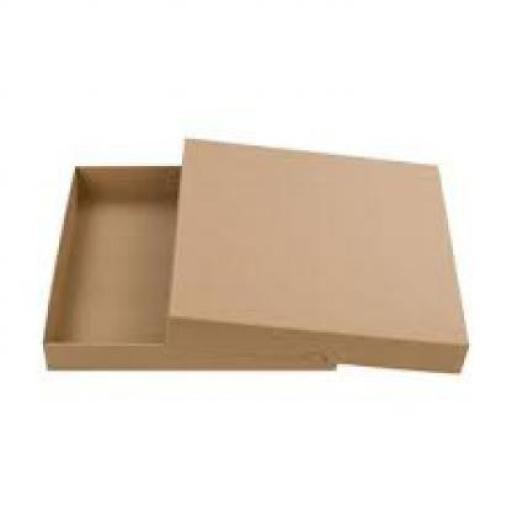cardboard: (161, 134, 464, 371), (40, 164, 334, 370)
